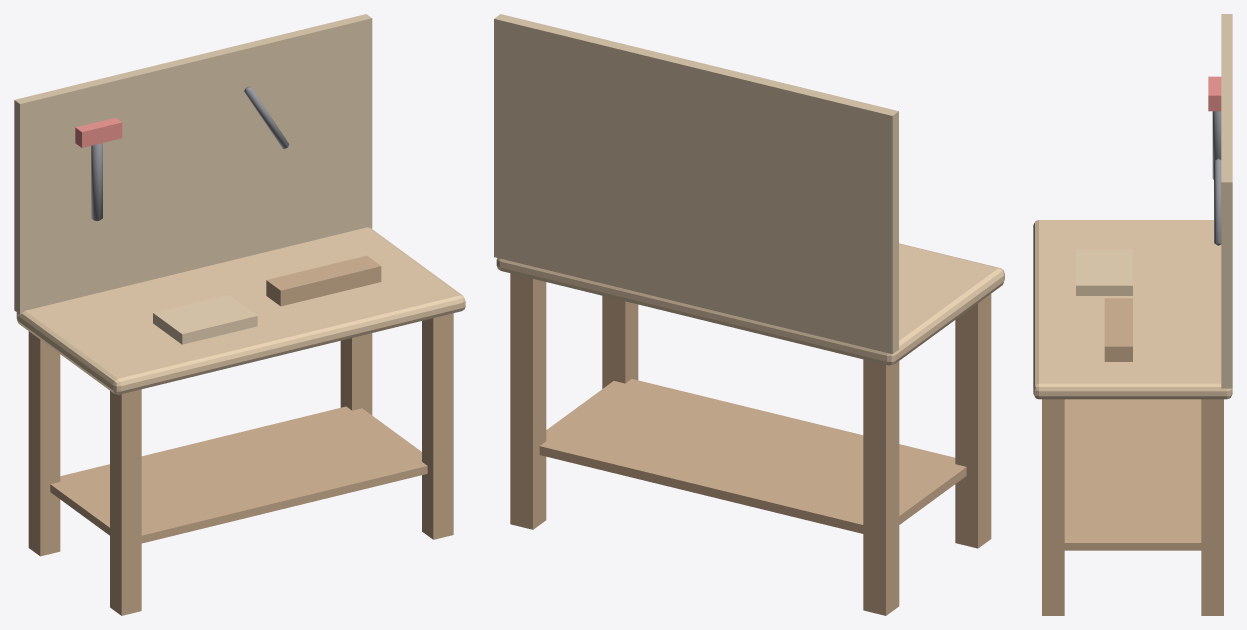
Rendered from bancada_trabalho.glb.
3 views of the same model, side by side, from view 1: azimuth 30°, elevation 25°; view 2: azimuth 150°, elevation 25°; view 3: azimuth 270°, elevation 25° (orthographic). The views are drawn at different scales.
Parts seen in each view (by area): view 1: bancada_trabalho; view 2: bancada_trabalho; view 3: bancada_trabalho.
Boxes of the visible parts, box(x1,y1,x2,y2) form: bancada_trabalho: box(14, 14, 465, 615); bancada_trabalho: box(494, 14, 1004, 615); bancada_trabalho: box(1033, 14, 1232, 615).
Size of the model in its own units: 1.4 by 1.7 by 0.7.
